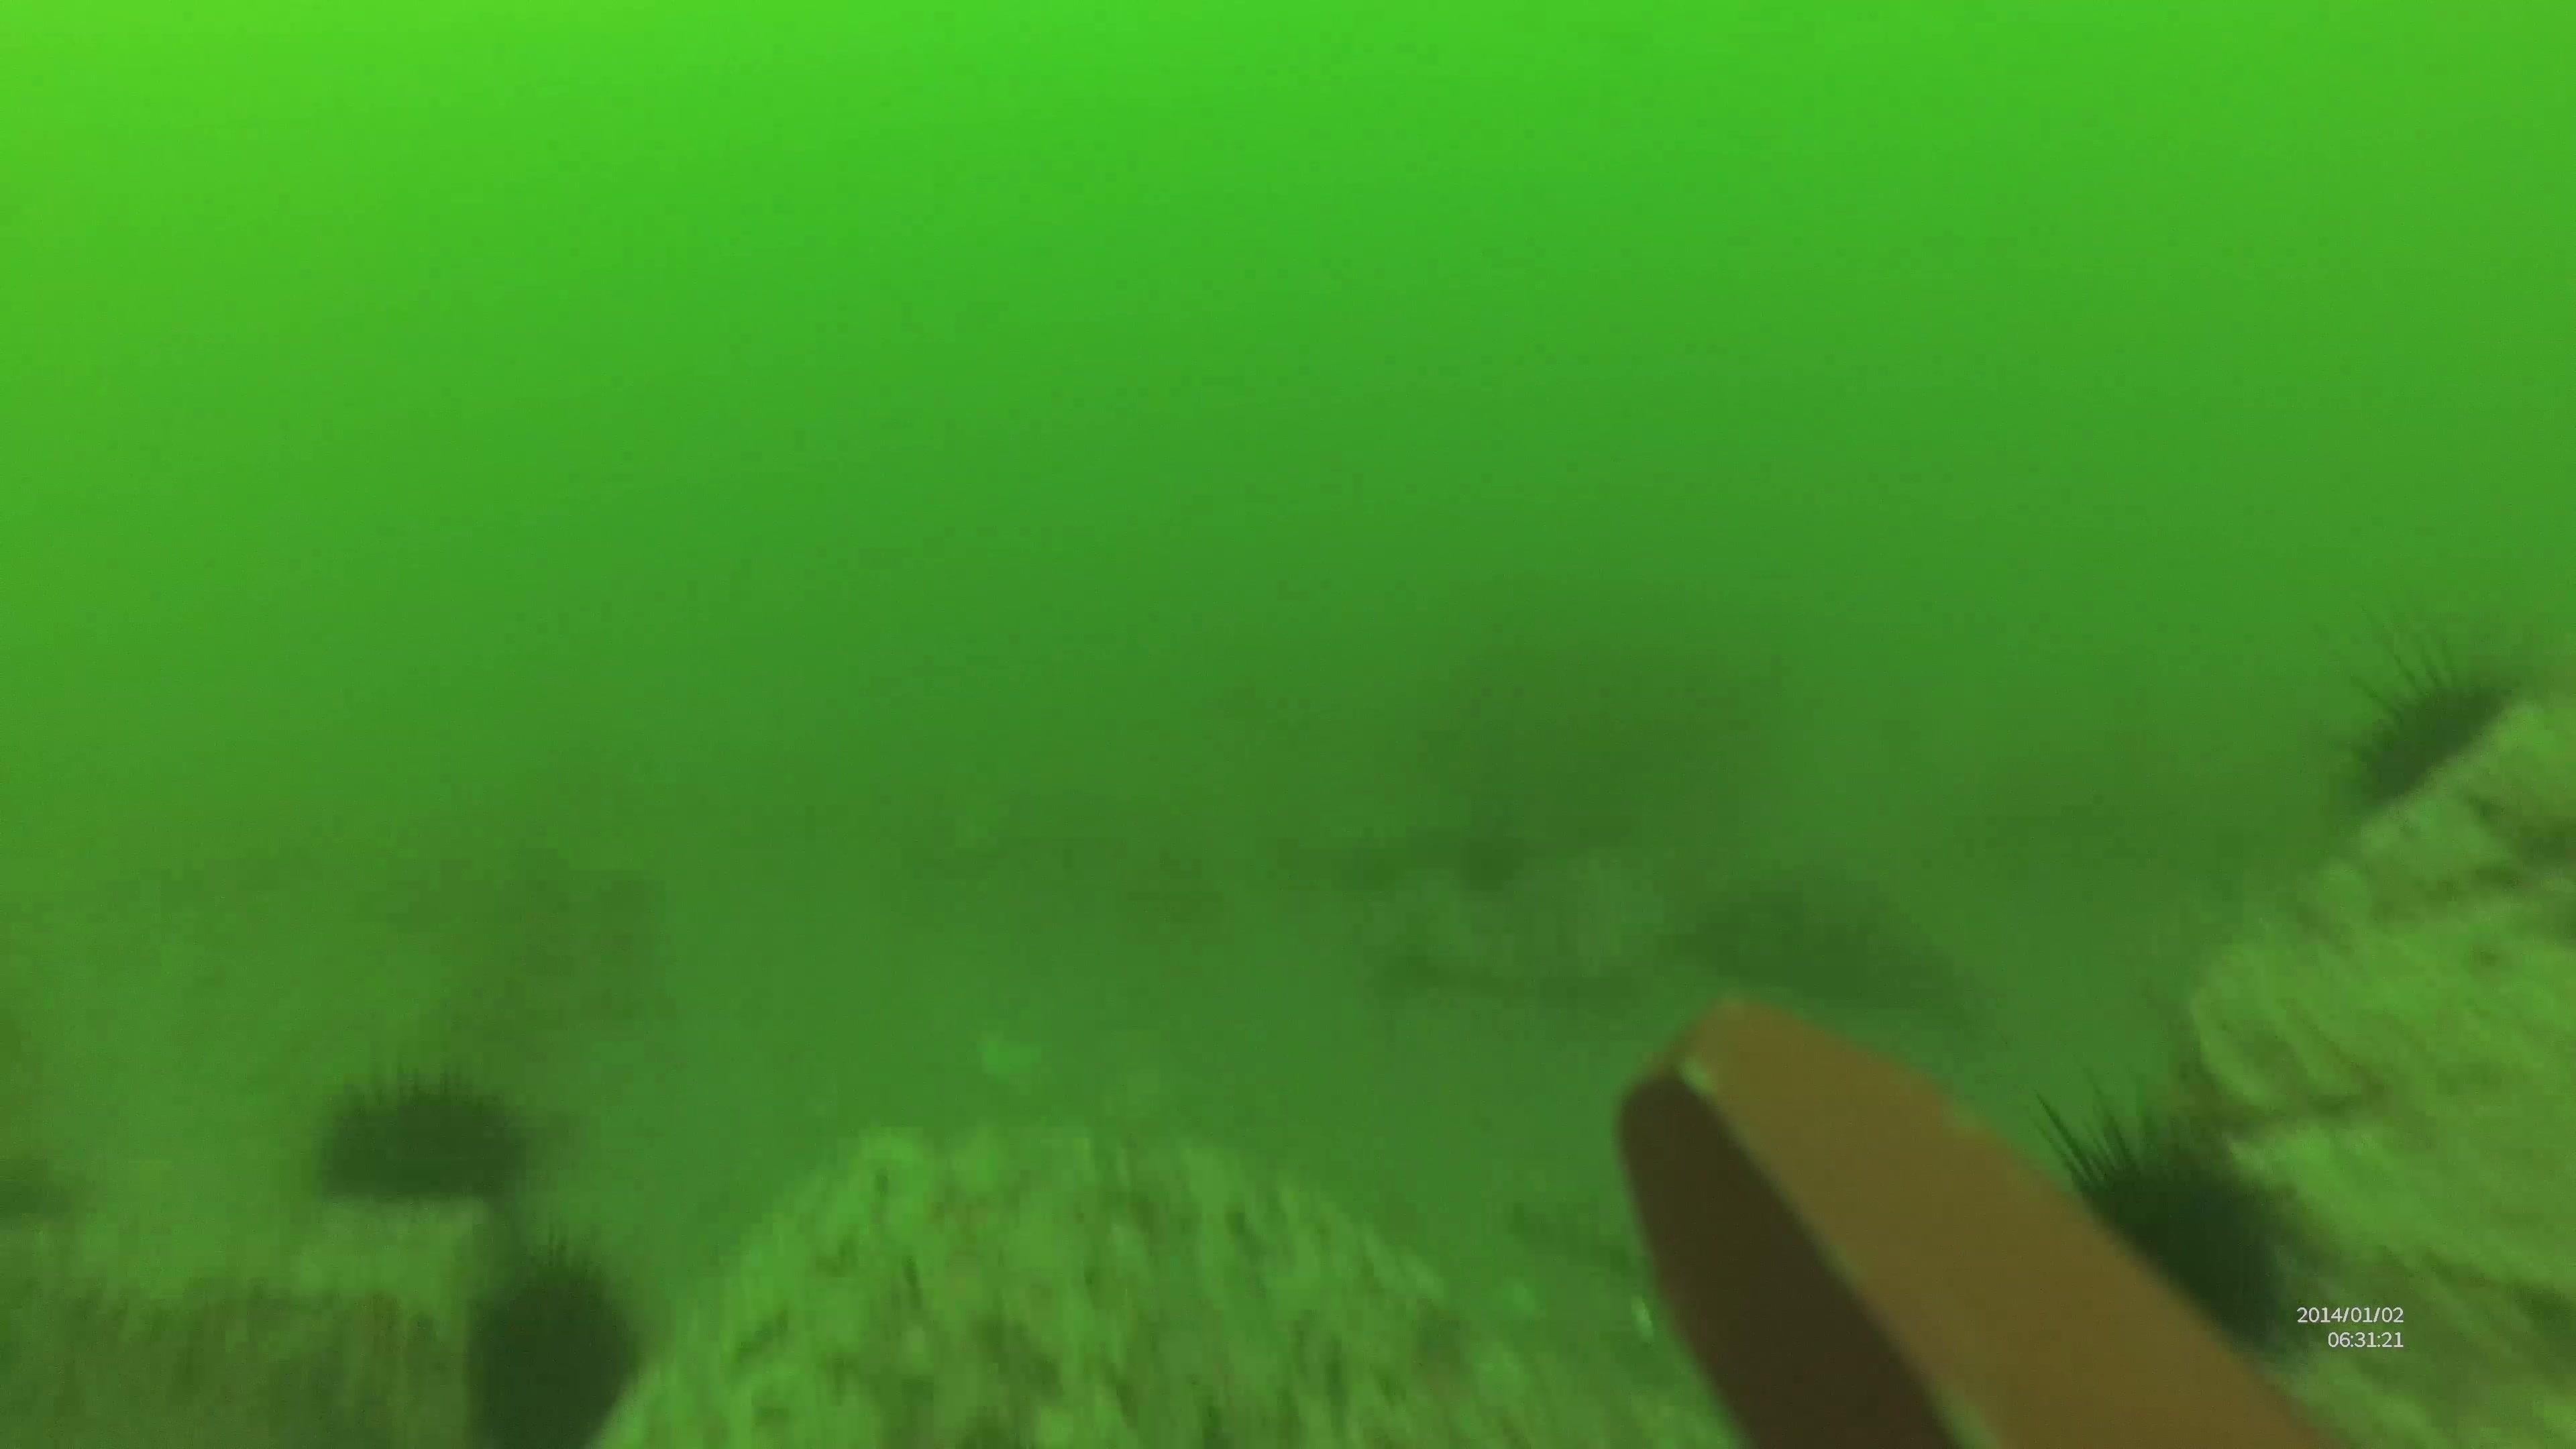echinus: (2008, 1076, 2325, 1368), (451, 1238, 655, 1447), (2327, 633, 2530, 826), (308, 1058, 536, 1214)
scallop: (2185, 936, 2380, 1123)
